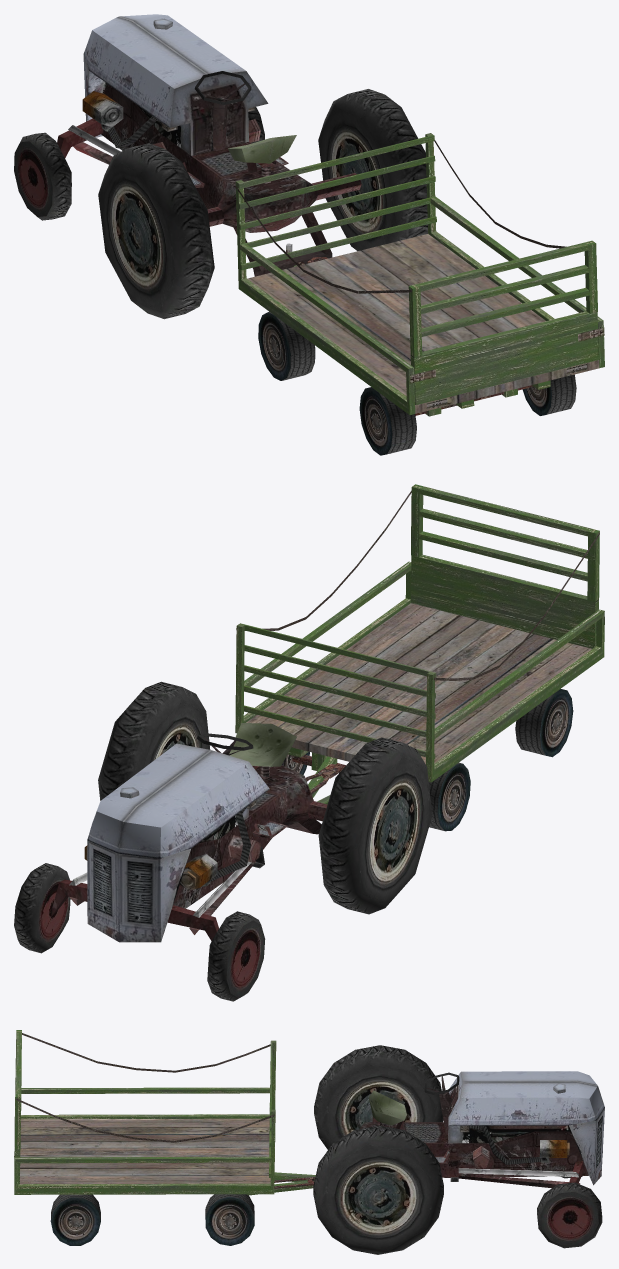
Rendered from p54_43_tractor_vintage_trailer.glb.
The picture shows the model from 3 angles, top to bottom: view 1: azimuth 30°, elevation 25°; view 2: azimuth 150°, elevation 25°; view 3: azimuth 270°, elevation 25°; orthographic projection. The views are drawn at different scales.
Parts seen in each view (by area): view 1: Body_1, Body_2; view 2: Body_1, Body_2; view 3: Body_1, Body_2.
Boxes of the visible parts, x1,y1,x2,y2 form: Body_1: [14, 14, 427, 319]; Body_2: [235, 133, 604, 455]; Body_1: [14, 681, 432, 1001]; Body_2: [235, 484, 604, 831]; Body_1: [313, 1045, 604, 1254]; Body_2: [14, 1030, 315, 1245].
Size of the model in its own units: 3.58 by 2.56 by 9.27.
Materials: 2 (2 with a texture image).
